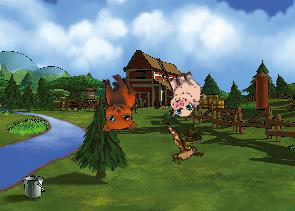bear: (88, 70, 144, 137)
eagle: (153, 121, 210, 173)
pig: (158, 67, 209, 120)
